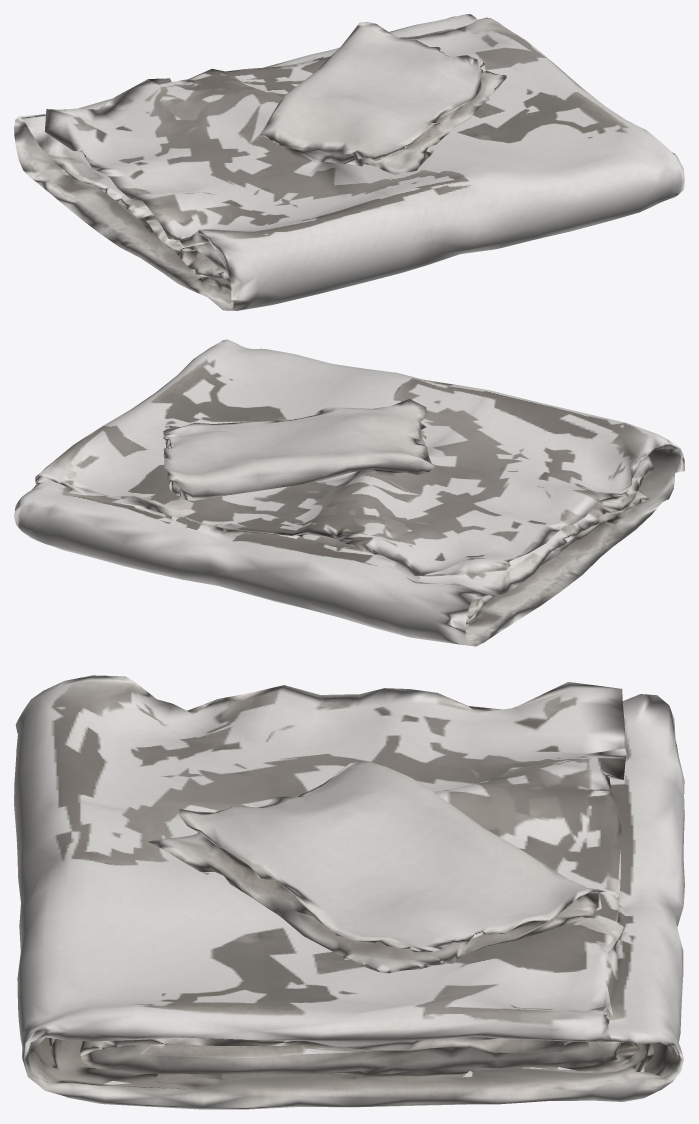
Rendered from FoldedTowel.fbx.
3 views of the same model, one above another, from view 1: azimuth 30°, elevation 25°; view 2: azimuth 150°, elevation 25°; view 3: azimuth 270°, elevation 25° (orthographic). The views are drawn at different scales.
Parts seen in each view (by area): view 1: Mesh_0; view 2: Mesh_0; view 3: Mesh_0.
Part boxes in pixels (bbox=[...]): Mesh_0: bbox=[14, 14, 684, 310]; Mesh_0: bbox=[14, 339, 684, 646]; Mesh_0: bbox=[14, 675, 684, 1109].
Size of the model in its own units: 189 by 39.39 by 159.
1 material, 1 textured.
